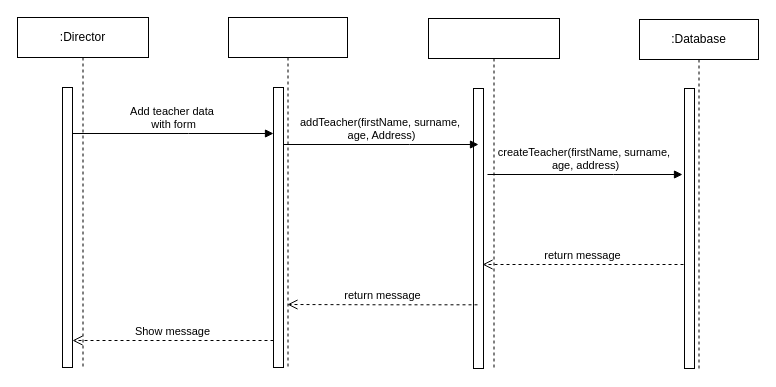
Some shapes in this 776 by 387 pixel diagram are drawn without their labels. The shapes that lost their labels are listed below. From the top down, each one's centre as x and y in pixels, then its label:
At point 288,192: ":ApplicationIHM".
At point 494,193: ":Control".
